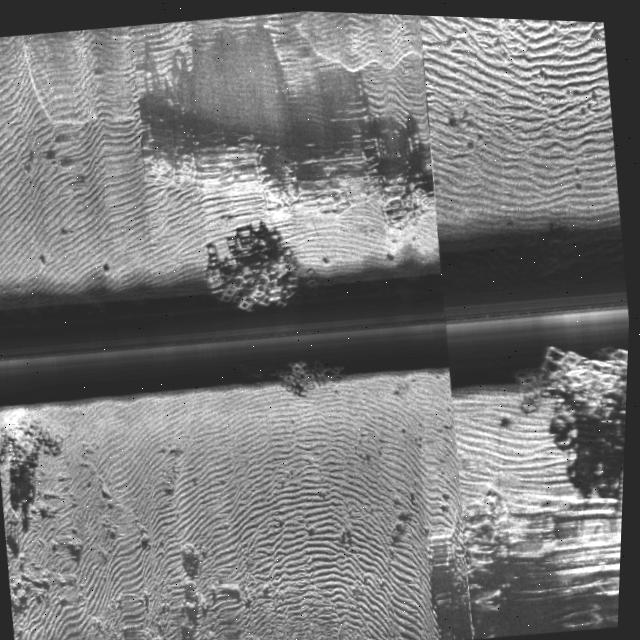artificial reef: (512, 313, 631, 494), (196, 224, 326, 312), (286, 355, 352, 391)
